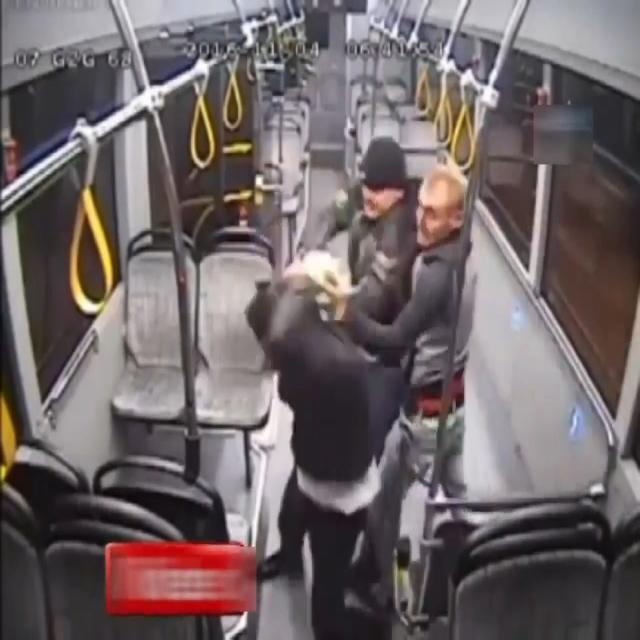fight: (242, 128, 490, 588)
